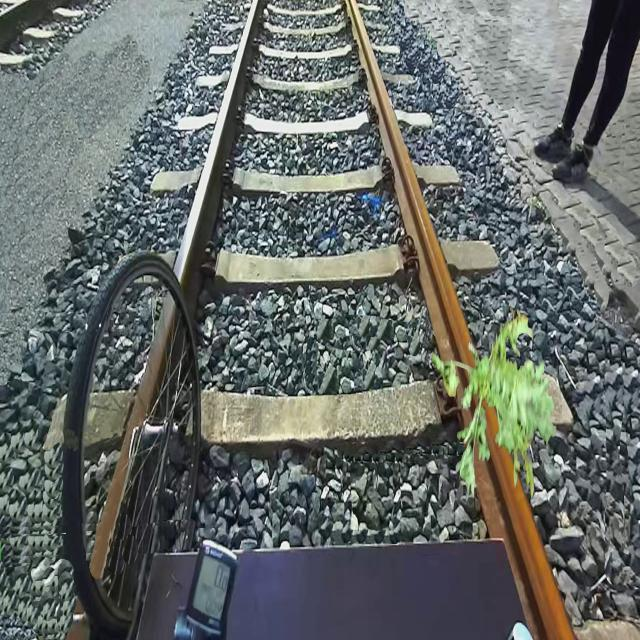Plant: (432, 306, 557, 502)
